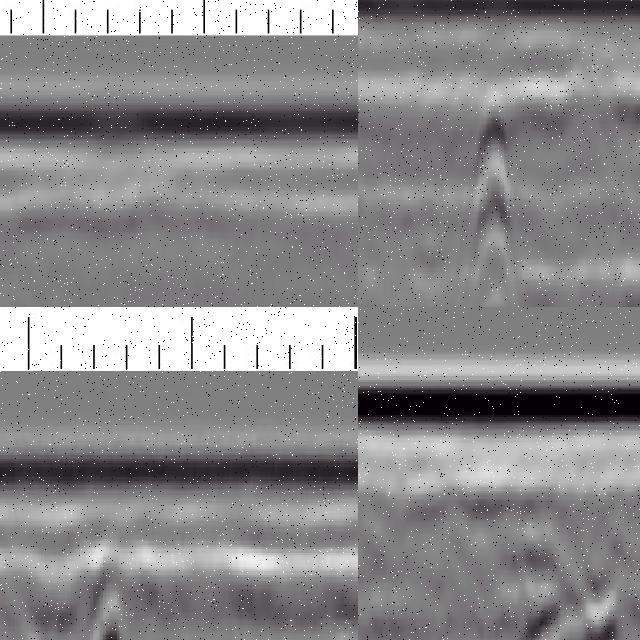crack: (464, 90, 522, 308), (86, 544, 135, 640)
loose: (503, 447, 640, 640)
